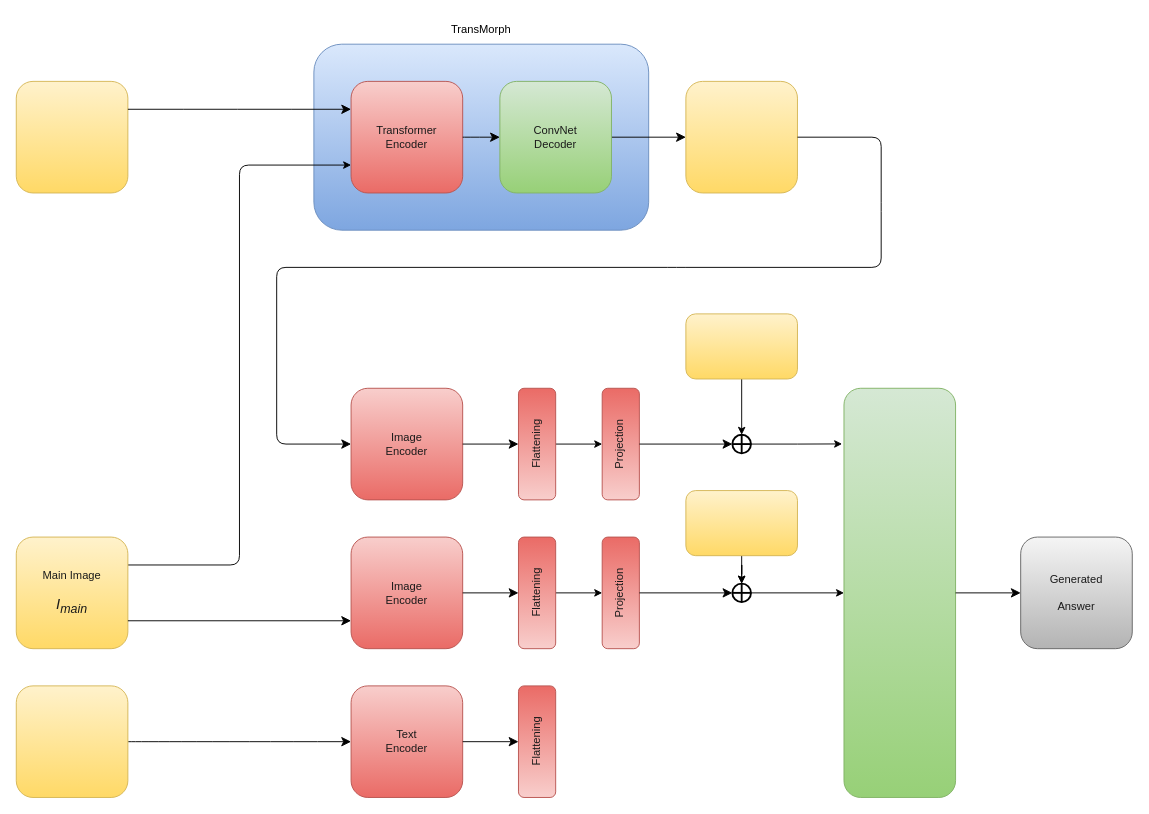
The diagram is 1149 pixels wide and 814 high, and some of its shapes have lost their labels. The shapes that lost their labels are listed below. From the top down, each one's centre as x and y in pixels, then its label:
point 71,136: Reference Image I ref
point 741,136: Registered Ref Image I reg
point 741,346: Time Encoding T ref
point 741,523: Time Encoding T main
point 899,592: Multimodal Decoder
point 71,741: Text Question Q
